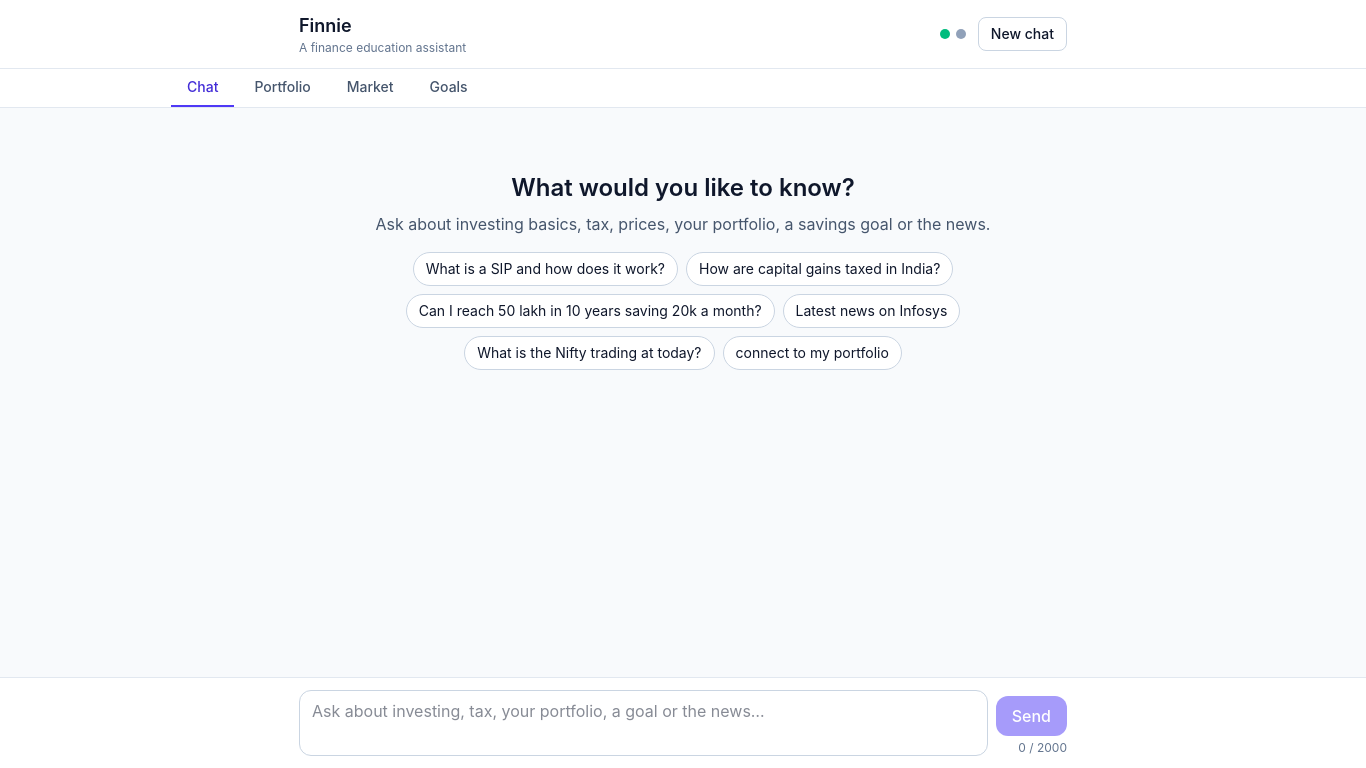
Test case: App › shows a failure and retries it
Type "hello" into the text box. click: [643, 723]
box: [299,690,988,756]
Then press Enter
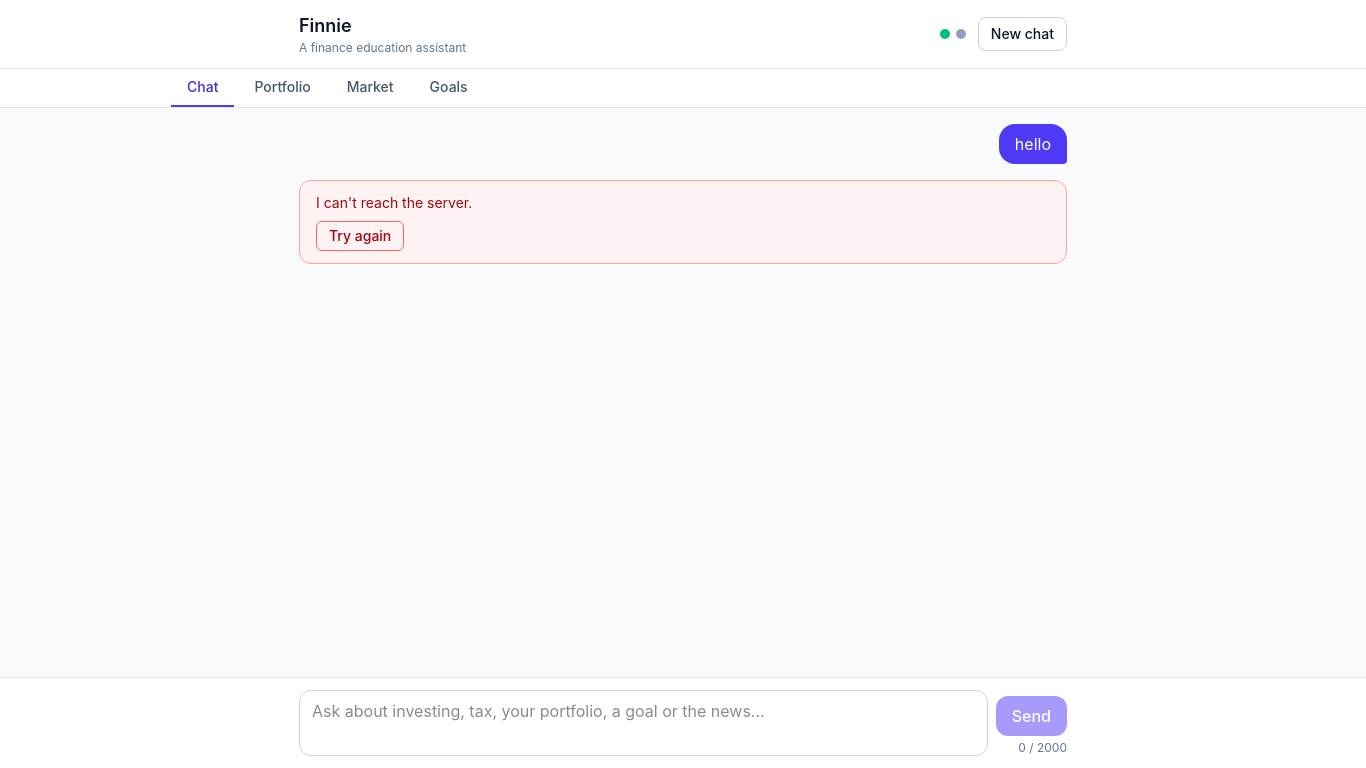
Check: the message shows "can't reach the server", box [316,194,472,211]
Click the button "Try again". click: [360, 236]
box: [316,221,404,251]
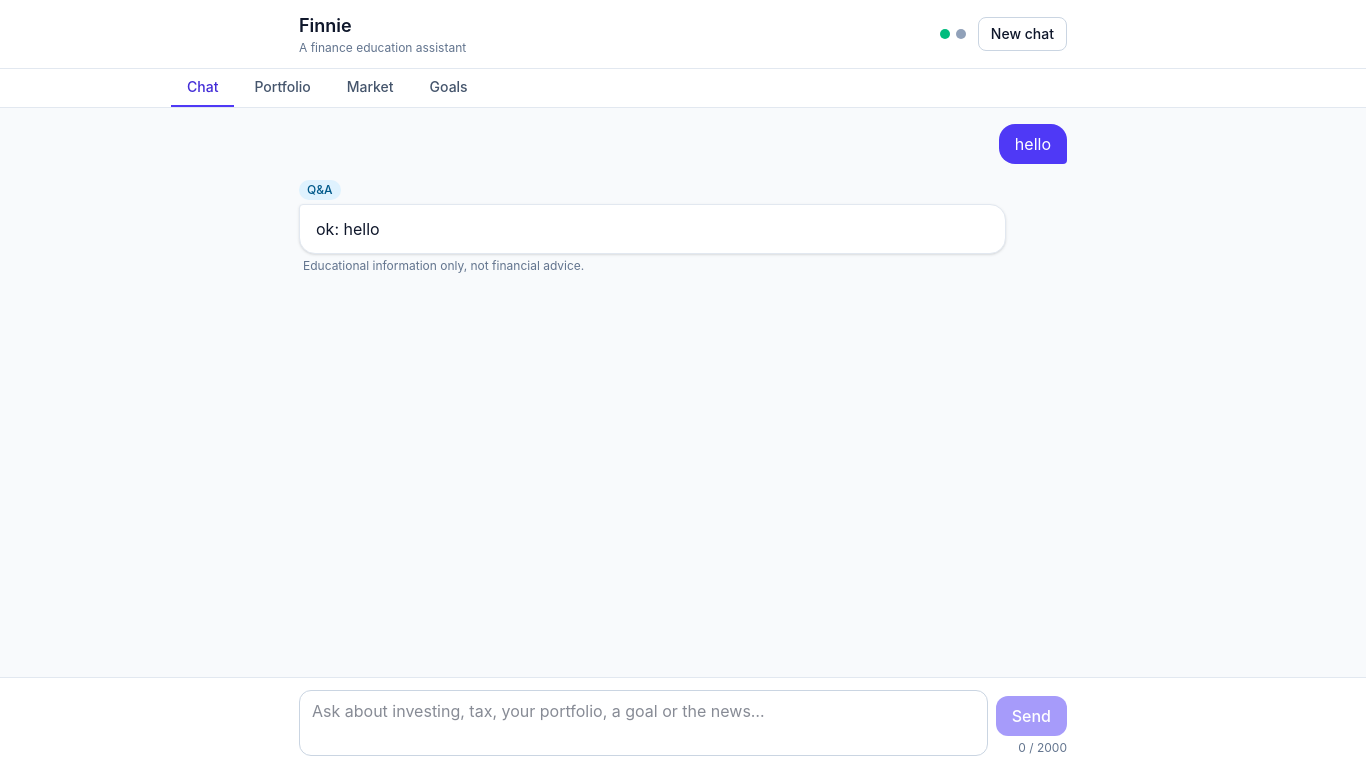
Check: the text "ok: hello" is shown, box [316,219,380,239]
Check: the message "I can't reach the server. Try again" is gone
